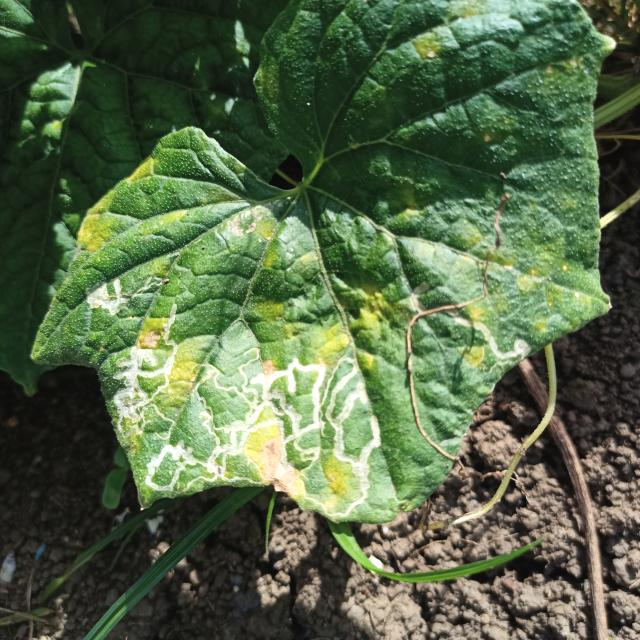disease_cucumber: (82, 217, 508, 518), (70, 156, 204, 262), (412, 0, 496, 66)
